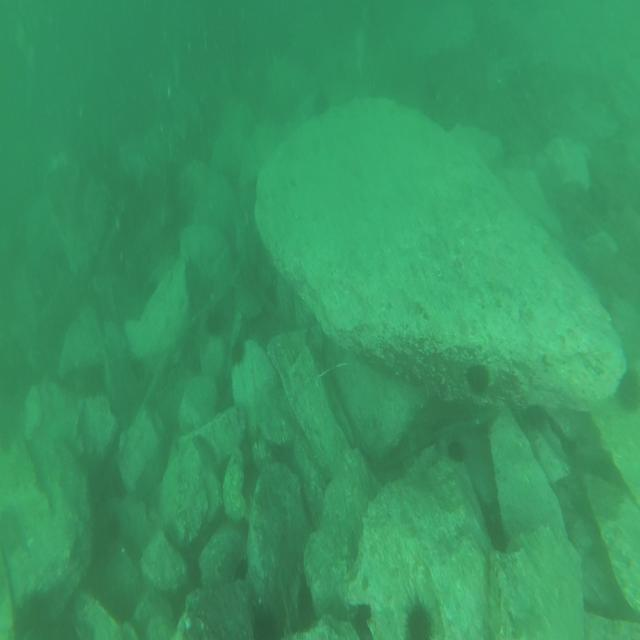echinus: (12, 590, 52, 640), (405, 597, 433, 640), (618, 366, 640, 414), (468, 363, 489, 400), (182, 257, 199, 288), (206, 309, 223, 337), (448, 438, 466, 463), (314, 92, 330, 120), (230, 339, 245, 365)
